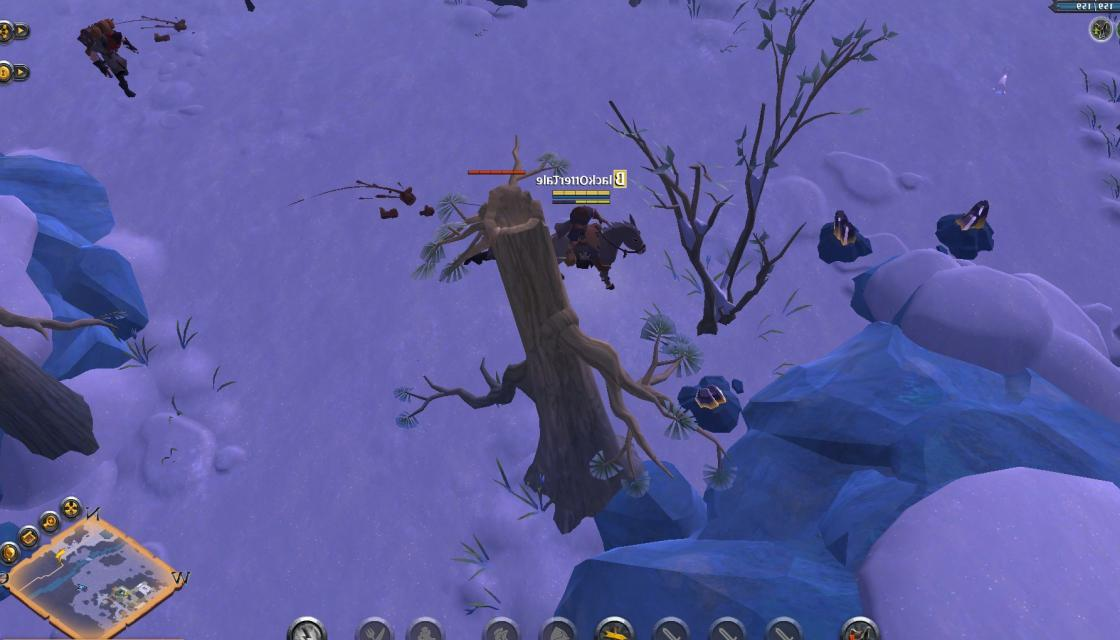copperore: (676, 375, 743, 432), (934, 200, 1000, 256), (818, 208, 872, 260)
